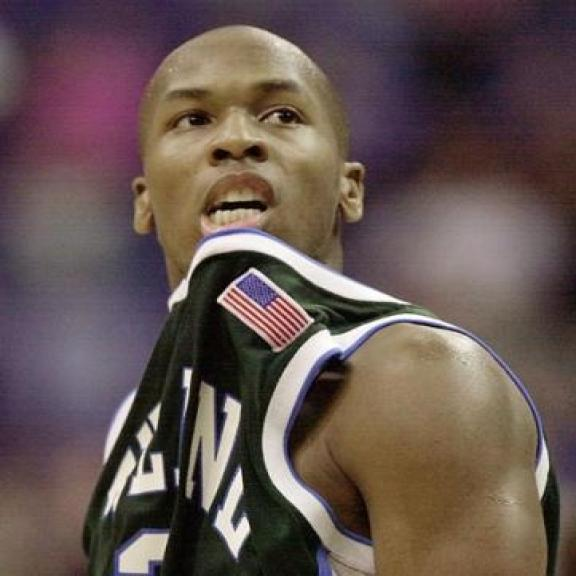face: (119, 40, 385, 285)
